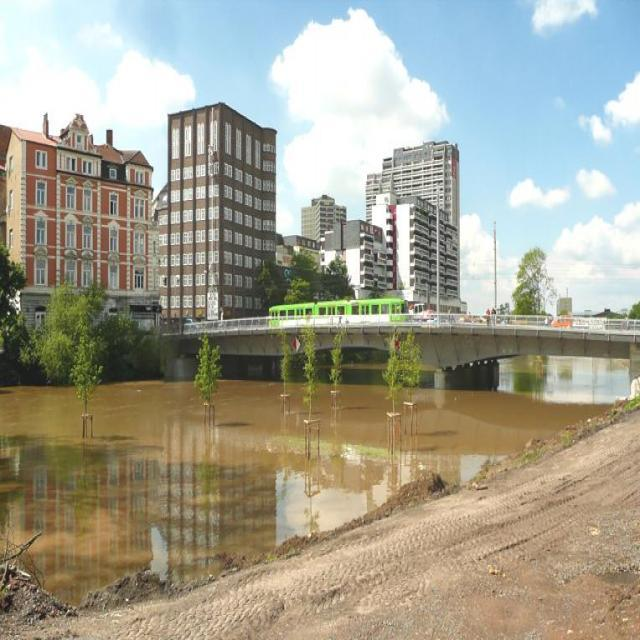flood: (0, 355, 631, 620)
